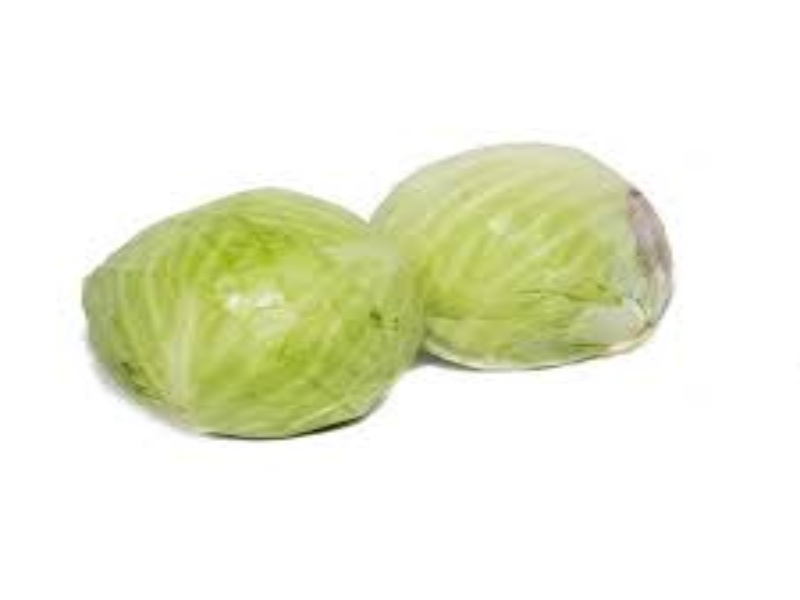Repollo: (74, 180, 430, 460), (357, 134, 689, 396)
